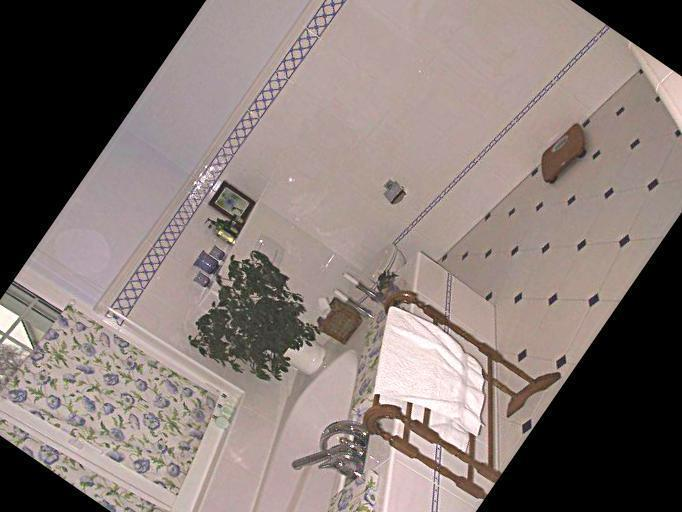Otro Obstaculo: (520, 101, 607, 196)
